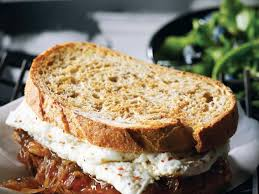sandwich: (2, 33, 257, 194)
